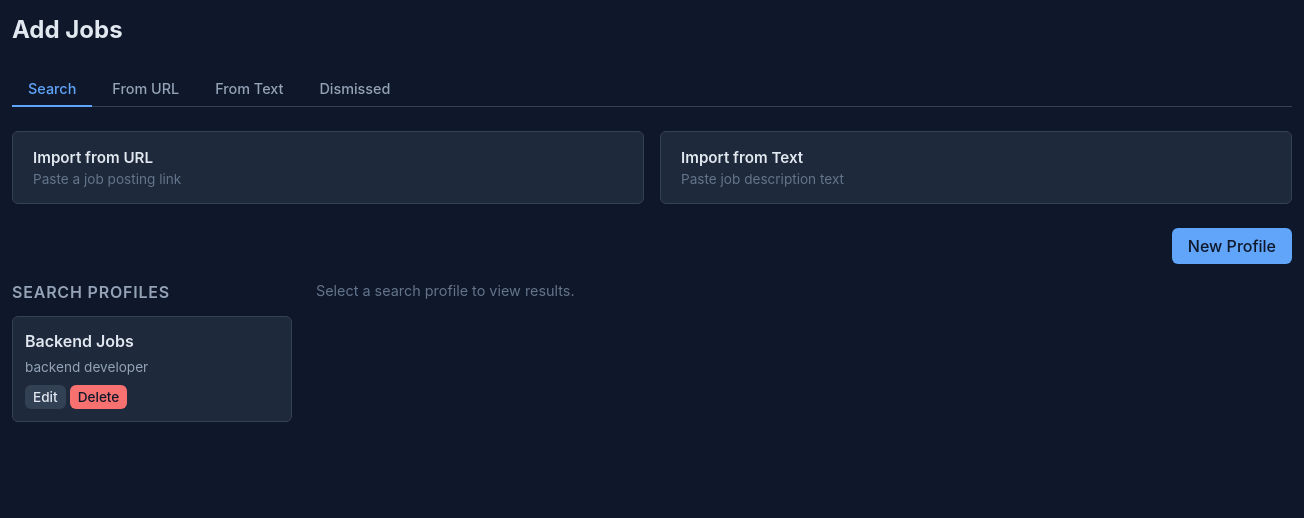
Test case: Search Page — delta tracking on refresh › does not mark any postings as added on first refresh with no prior results
Click the text "Backend Jobs". click: click(79, 341)
box: [25,331,134,351]
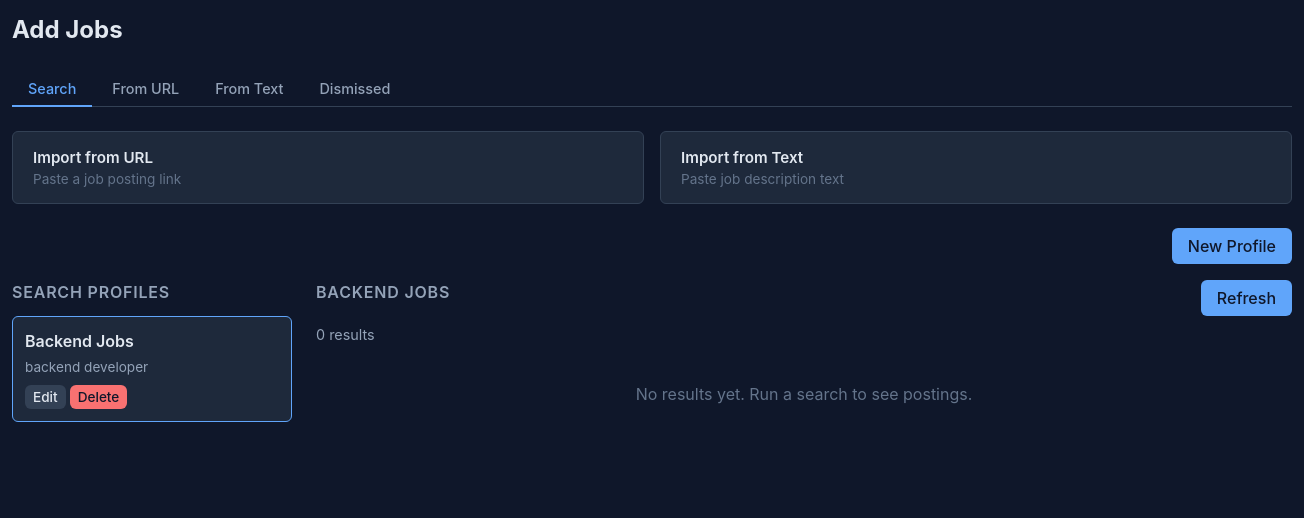
Expected: the text "No results yet. Run a search to see postings." is shown, [636,384,972,404]
Click the button "Refresh". click: click(1246, 298)
box: [1201,280,1292,316]
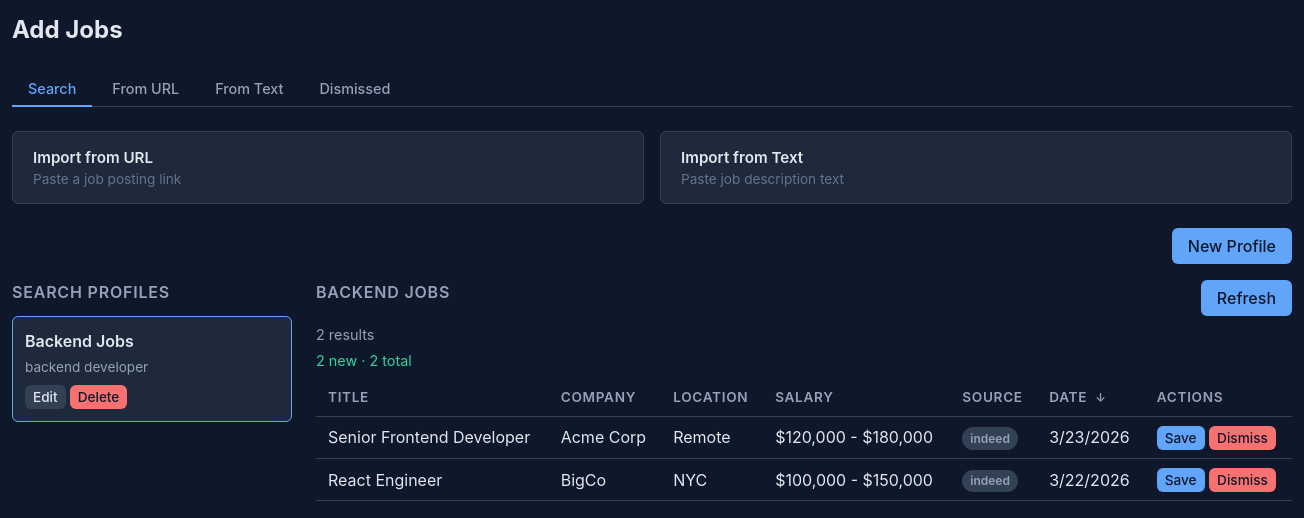
Expected: the text "Senior Frontend Developer" is shown, [316,416,549,458]
